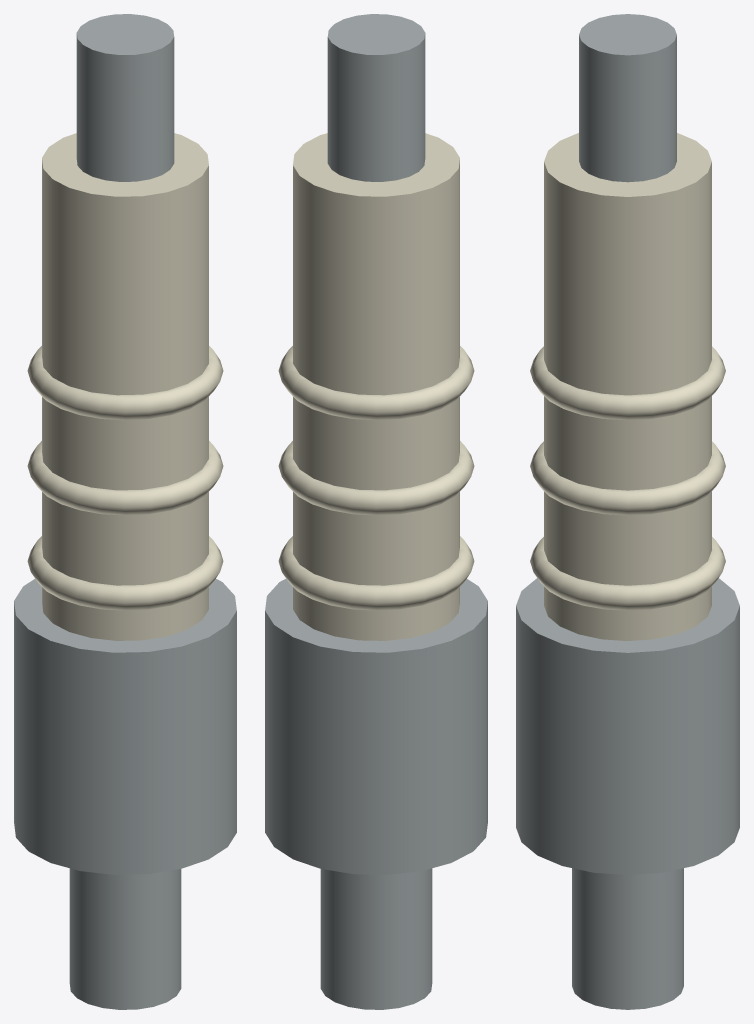
File: survivor-vehicle-maintenance-spark-plug-65599153__26650.glb
3 views of the same model, side by side, from view 1: azimuth 30°, elevation 25°; view 2: azimuth 150°, elevation 25°; view 3: azimuth 270°, elevation 25° (orthographic).
Parts seen in each view (by area): view 1: spark-plug; view 2: spark-plug; view 3: spark-plug.
Boxes of the visible parts, <box> form: spark-plug: <box>14,14,236,1009</box>; spark-plug: <box>265,14,487,1009</box>; spark-plug: <box>516,14,739,1009</box>.
Bounding box in the file's own units: 0.032 × 0.15 × 0.032.
